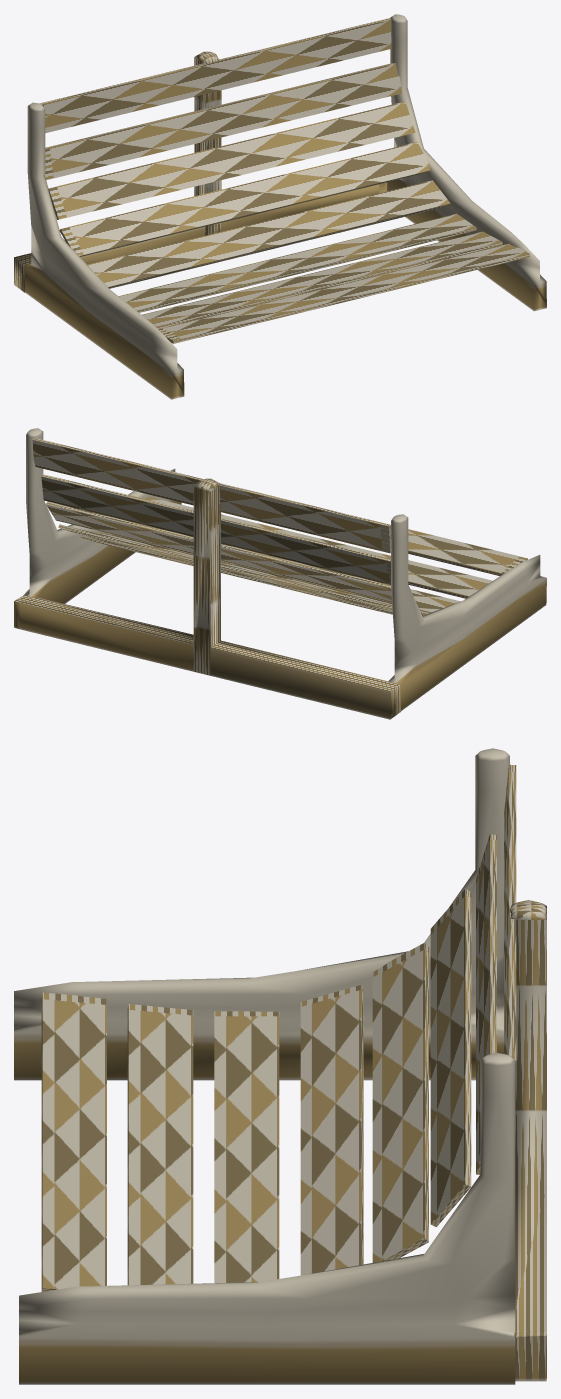
File: Bench.fbx
3 views of the same model, one above another, from view 1: azimuth 30°, elevation 25°; view 2: azimuth 150°, elevation 25°; view 3: azimuth 270°, elevation 25° (orthographic). The views are drawn at different scales.
Visible parts, largest first — view 1: polySurface14; view 2: polySurface14; view 3: polySurface14.
Boxes of the visible parts, <box> form: polySurface14: <box>14,14,546,399</box>; polySurface14: <box>14,428,546,719</box>; polySurface14: <box>14,748,546,1384</box>.
Size of the model in its own units: 9.8 by 4.76 by 7.05.
